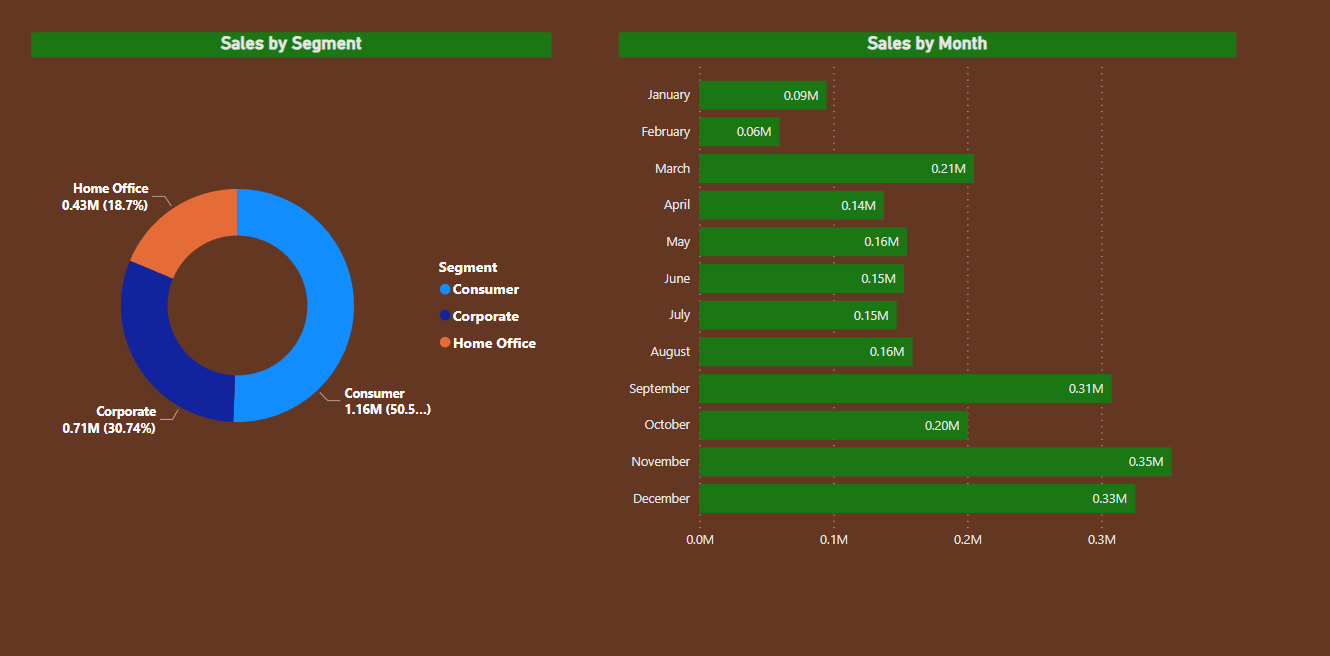

The dashboard page shown, as its layout file describes it:
{"tool":"powerbi","page":{"name":"Page 1","canvas":[1280,720],"ordinal":0},"visuals":[{"type":"donutChart","fields":{"Category":["Orders.Segment"],"Y":["Sum(Orders.Sales)"]},"box":[39.3,35.7,495.1,501],"z":0},{"type":"clusteredBarChart","fields":{"Category":["Orders.Order Date.Variation.Date Hierarchy.Month"],"Y":["Sum(Orders.Sales)"]},"box":[598.6,35.7,587.9,501],"z":1000}]}

Visuals, with their boxes on the page's 1280x720 design canvas (x1, y1, x2, y2). These are canvas units, not pixel positions in the 1330x656 screenshot, which may show the page scaled, cropped or inside an application window:
donutChart - Orders.Segment x Sum(Orders.Sales): bbox=(39, 36, 534, 537)
clusteredBarChart - Orders.Order Date.Variation.Date Hierarchy.Month x Sum(Orders.Sales): bbox=(599, 36, 1186, 537)
